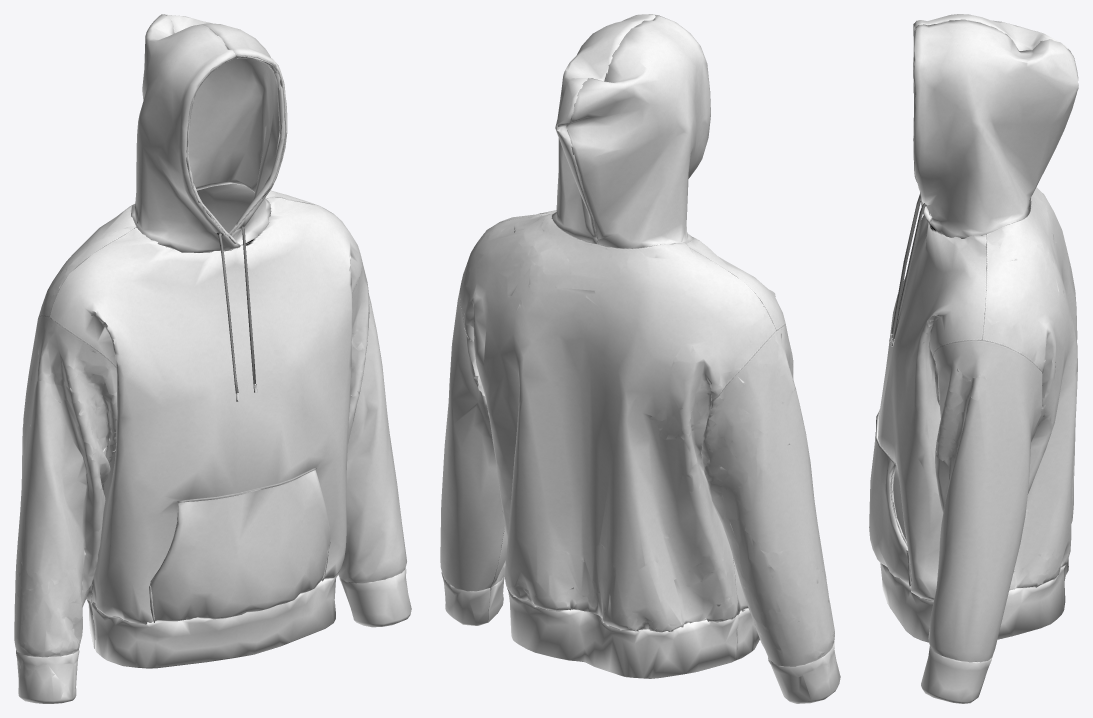
The model's file is hoodie.glb.
3 views of the same model, side by side, from view 1: azimuth 30°, elevation 25°; view 2: azimuth 150°, elevation 25°; view 3: azimuth 270°, elevation 25° (orthographic). The views are drawn at different scales.
Visible parts, largest first — view 1: Object_2; view 2: Object_2; view 3: Object_2.
Part boxes in pixels (x1=…): Object_2: x1=14, y1=14, x2=411, y2=703; Object_2: x1=440, y1=14, x2=840, y2=703; Object_2: x1=869, y1=14, x2=1078, y2=703.
Bounding box in the file's own units: 0.6058 × 0.9486 × 0.2991.
1 material, 1 textured.
